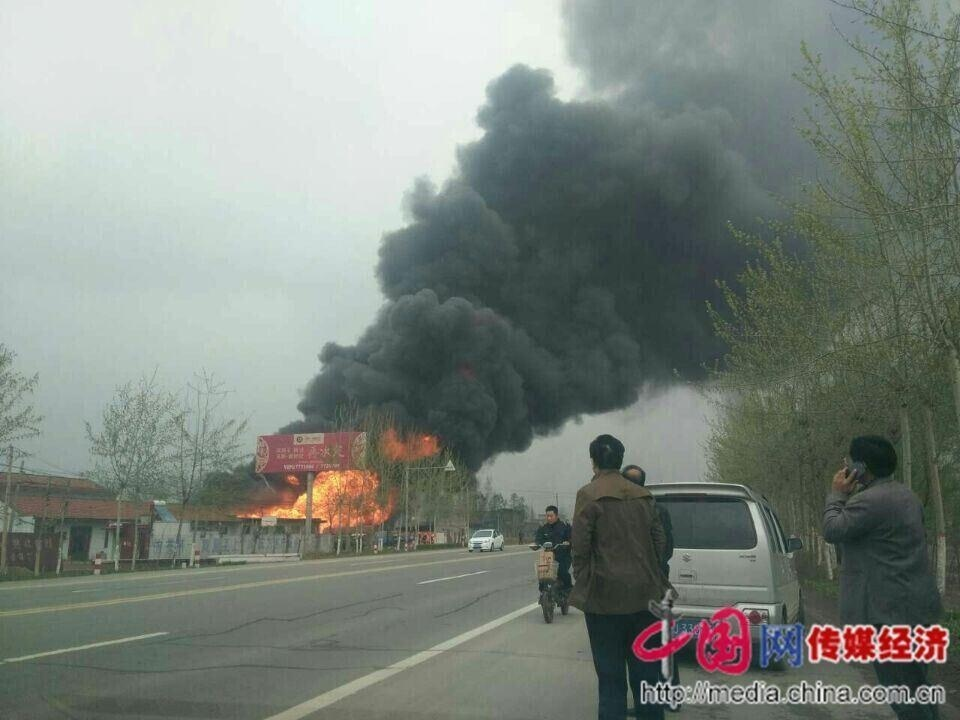fire: (241, 466, 397, 529)
